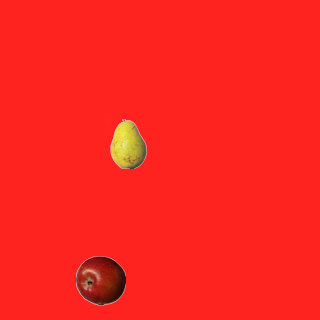Apple Braeburn: (75, 255, 125, 305)
Pear Monster: (103, 118, 153, 168)
